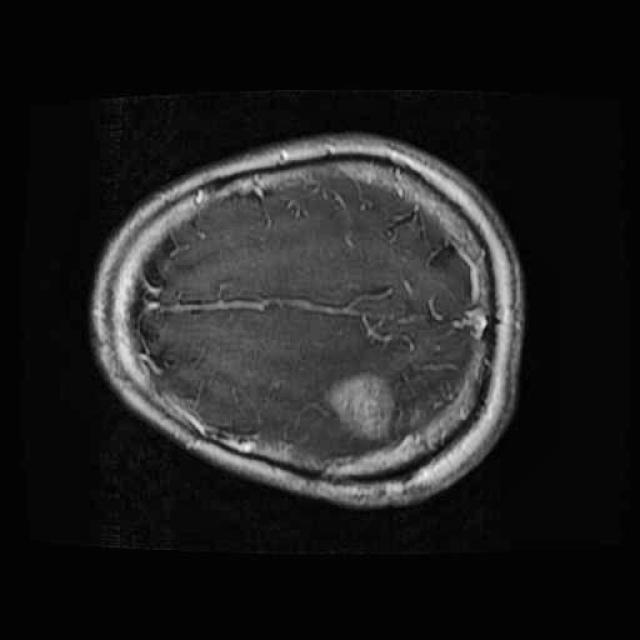Non-Tumor: (314, 356, 414, 459)
